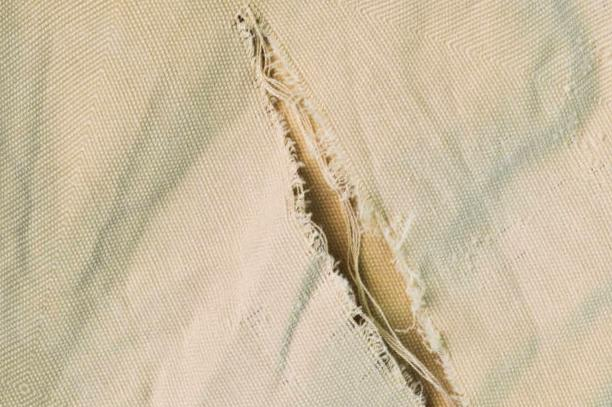hole: (229, 5, 481, 407)
